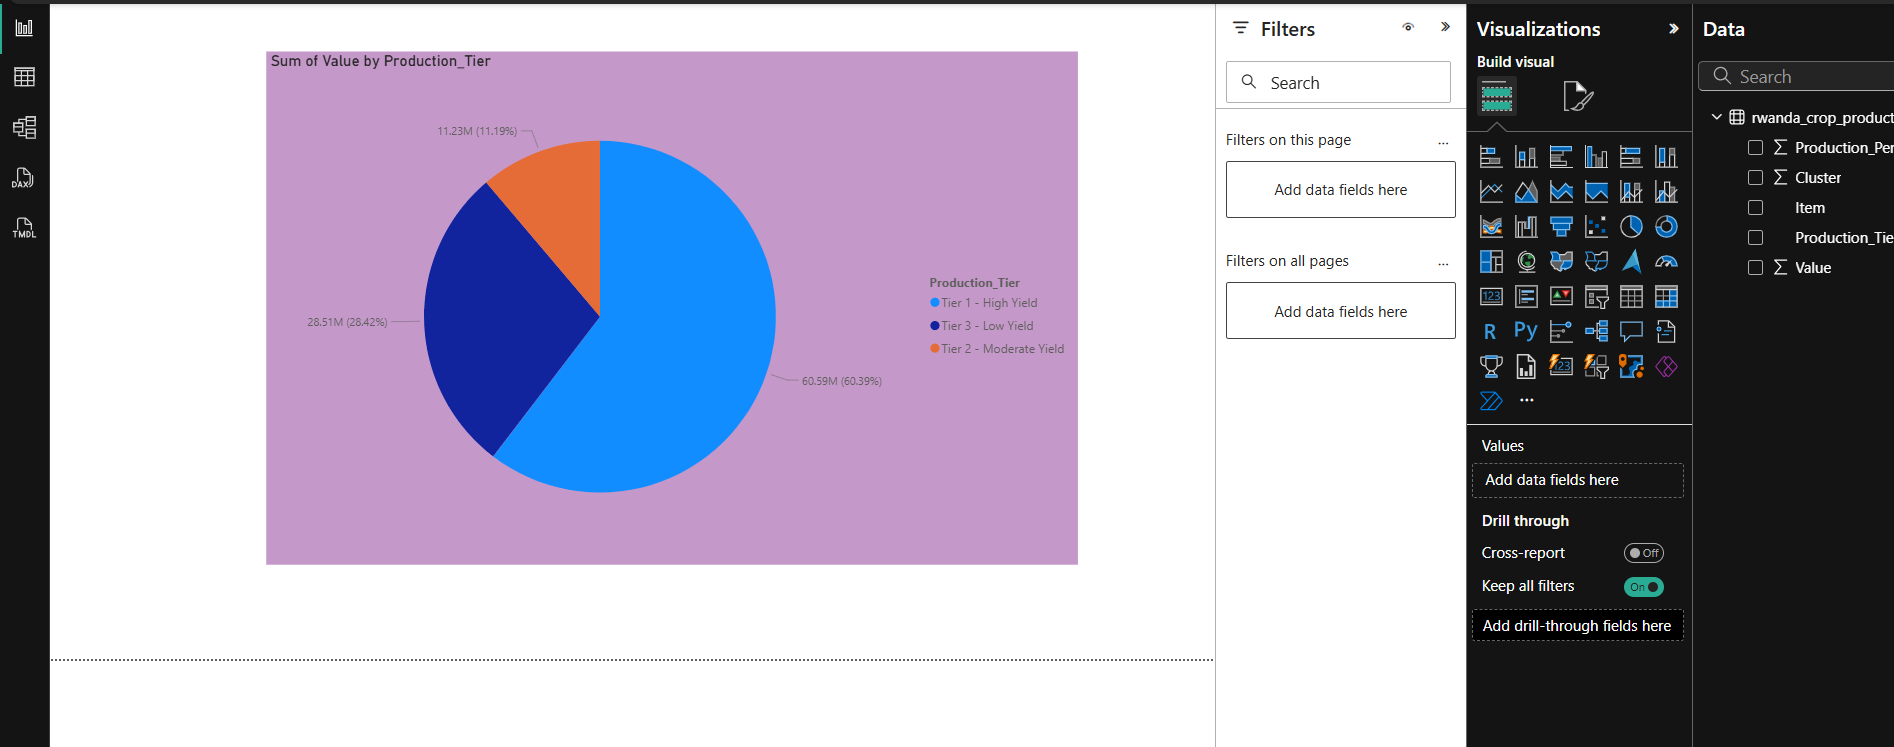

Layout of this report page (visuals, bound fields, positions):
{"tool":"powerbi","page":{"name":"Pie Chart","canvas":[1280,720],"ordinal":3},"visuals":[{"type":"pieChart","fields":{"Category":["rwanda_crop_production_trends.Production_Tier"],"Y":["Sum(rwanda_crop_production_trends.Value)"]},"box":[237.4,52.1,891.9,564],"z":0}]}

Visuals, with their boxes on the page's 1280x720 design canvas (x1, y1, x2, y2). These are canvas units, not pixel positions in the 1894x747 screenshot, which may show the page scaled, cropped or inside an application window:
pieChart - rwanda_crop_production_trends.Production_Tier x Sum(rwanda_crop_production_trends.Value): box=[237, 52, 1129, 616]
